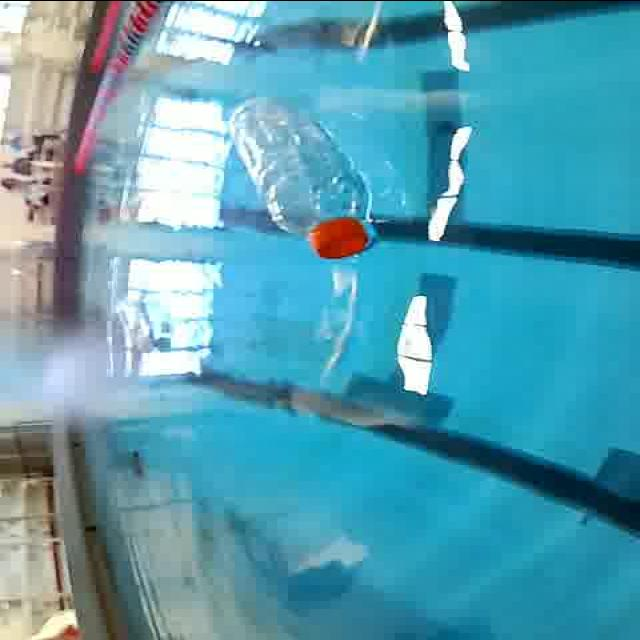Bottle: (218, 92, 386, 268)
